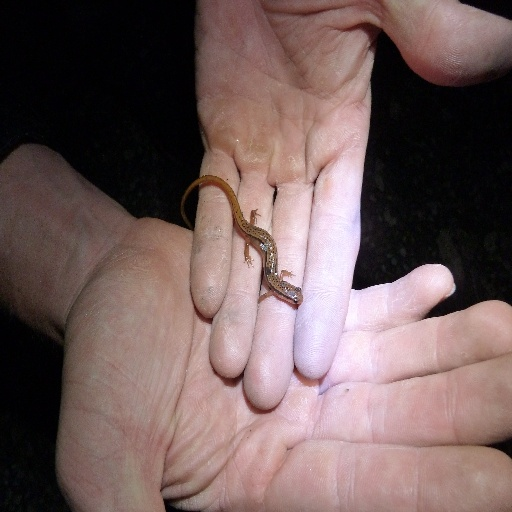hand: (52, 215, 511, 511), (186, 0, 511, 413)
